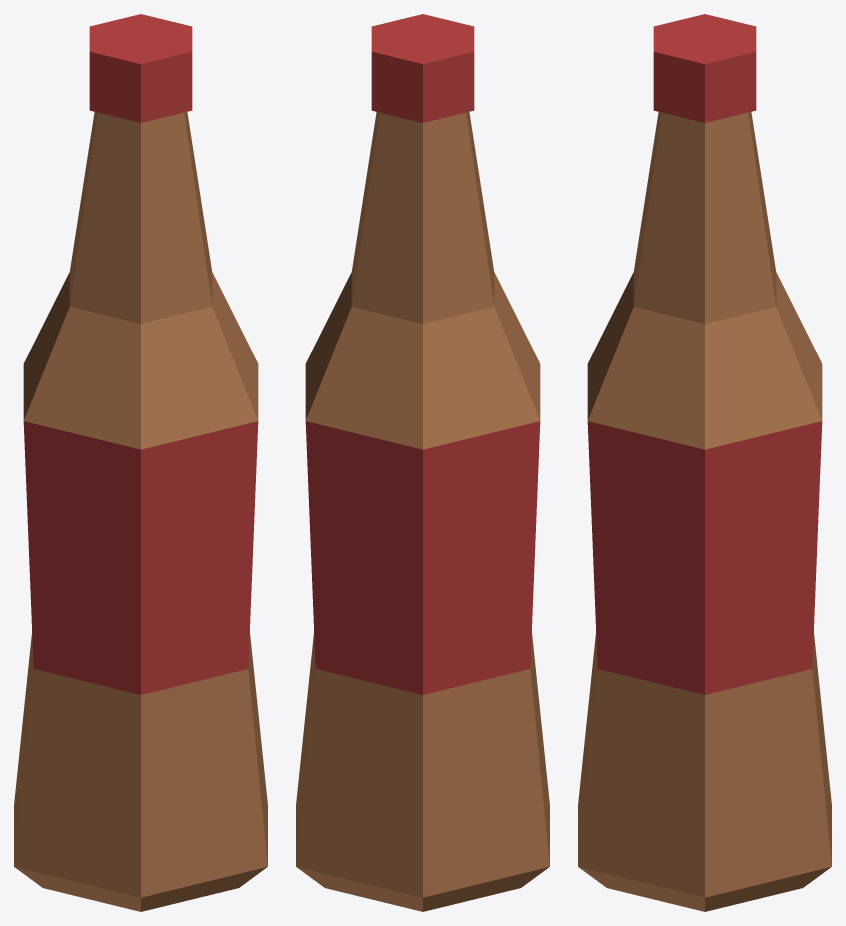
File: Soda Bottle.fbx
The picture shows the model from 3 angles, left to right: view 1: azimuth 30°, elevation 25°; view 2: azimuth 150°, elevation 25°; view 3: azimuth 270°, elevation 25°; orthographic projection.
Visible parts, largest first — view 1: mergedBlocks; view 2: mergedBlocks; view 3: mergedBlocks.
Boxes of the visible parts, x1,y1,x2,y2 form: mergedBlocks: (14, 14, 267, 911); mergedBlocks: (296, 14, 549, 911); mergedBlocks: (578, 14, 831, 911).
Size of the model in its own units: 1.8 by 5.6 by 1.56.
